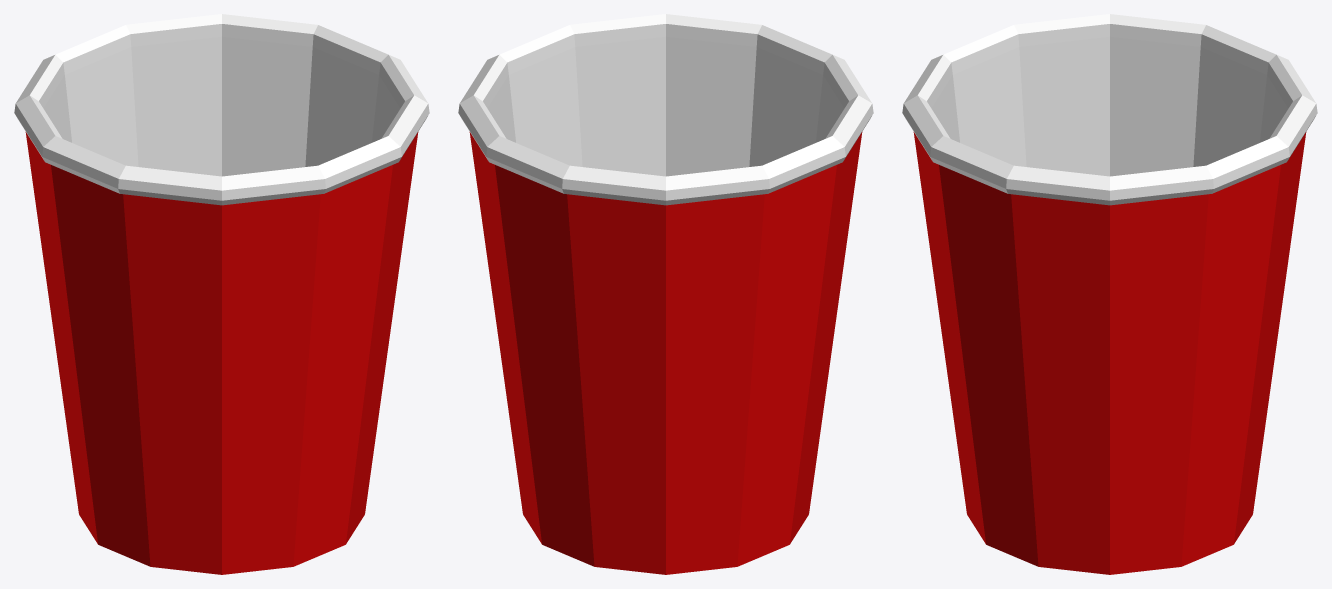
File: redsolocup.fbx
3 views of the same model, side by side, from view 1: azimuth 30°, elevation 25°; view 2: azimuth 150°, elevation 25°; view 3: azimuth 270°, elevation 25° (orthographic).
Visible parts, largest first — view 1: cups; view 2: cups; view 3: cups.
Part boxes in pixels (x1,y1,x2,y2): cups: [14, 14, 429, 574]; cups: [458, 14, 873, 574]; cups: [902, 14, 1317, 574].
Size of the model in its own units: 207 by 230 by 207.
